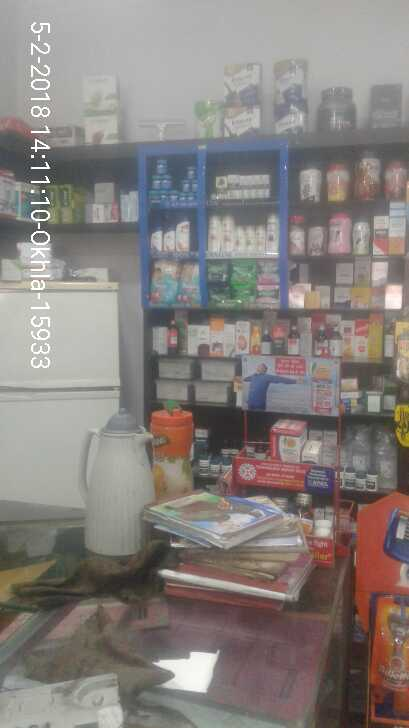vicks: (146, 155, 200, 203)
